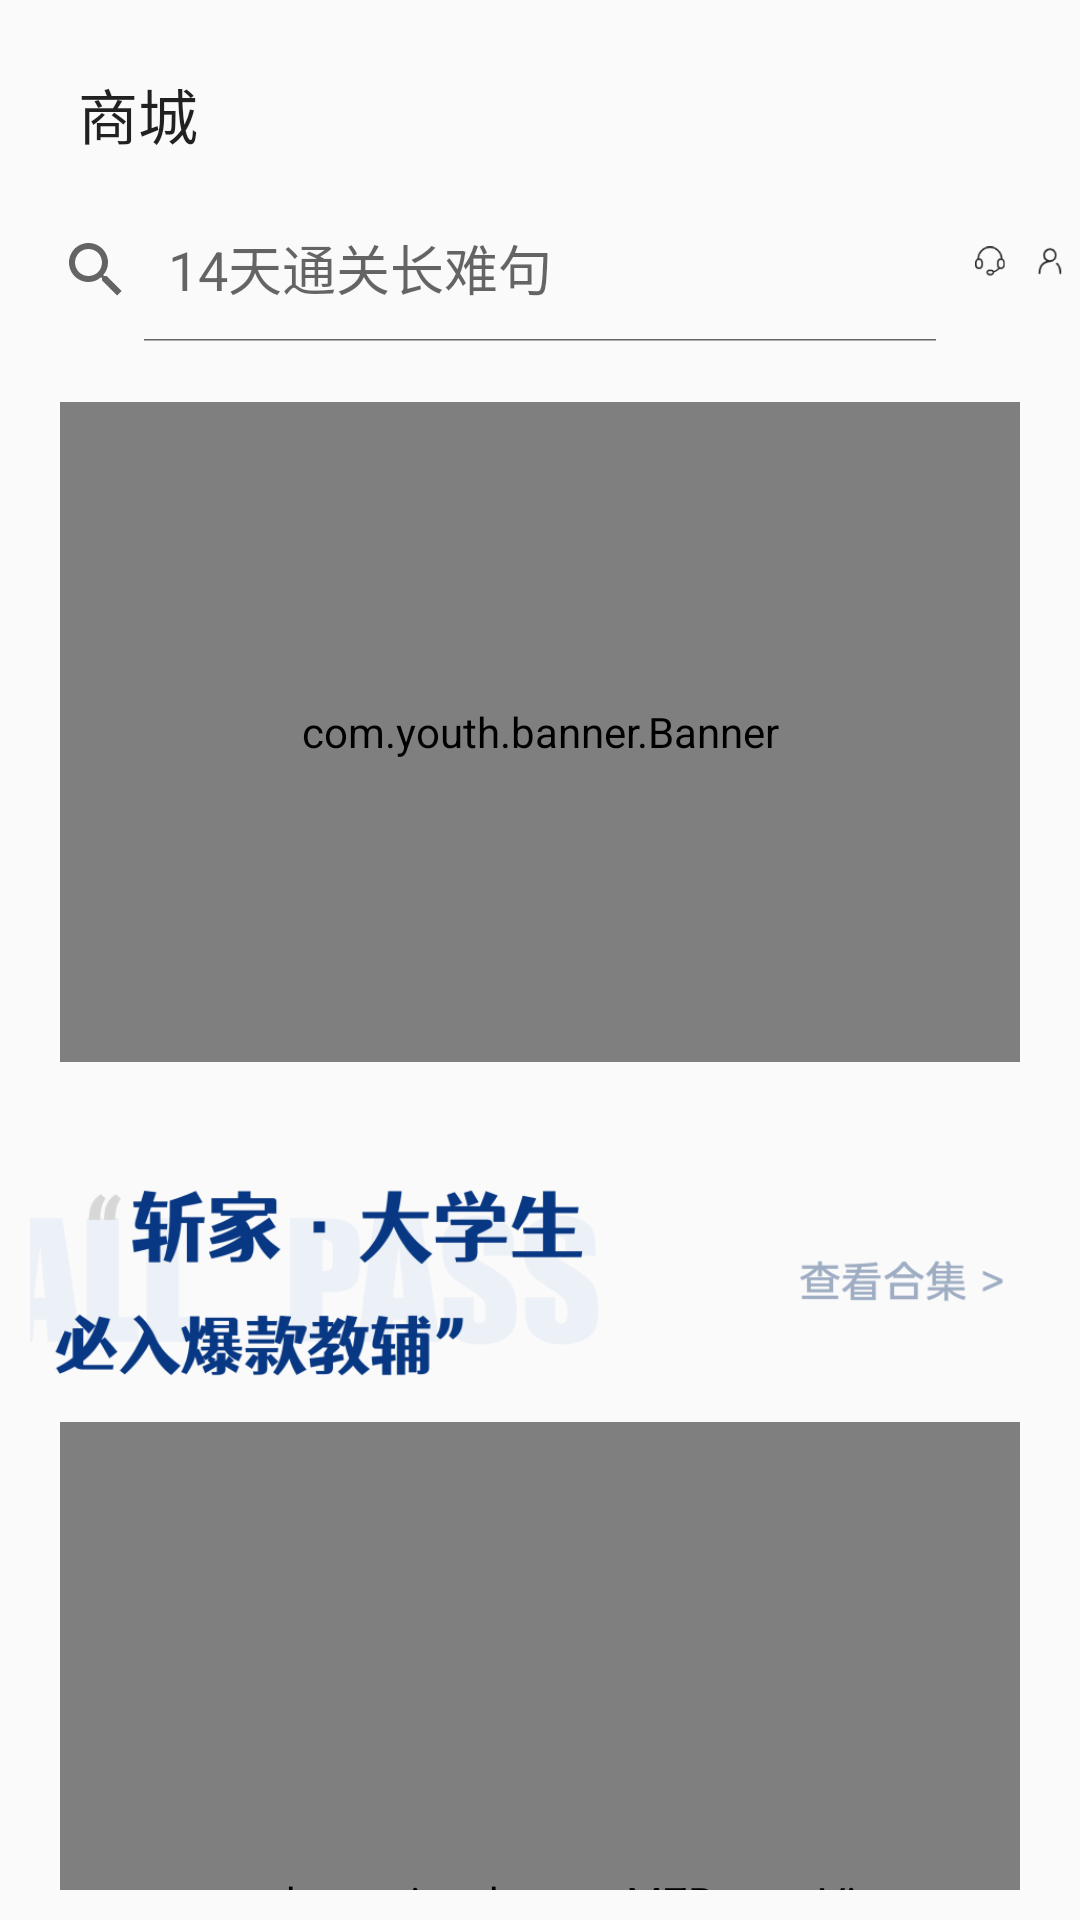

Icon bounding boxes for this 1080px x 1920px phone screenshot, format (x1, y1, x2, y2):
store mine: (1038, 248, 1062, 275)
store waiter: (975, 246, 1005, 276)
